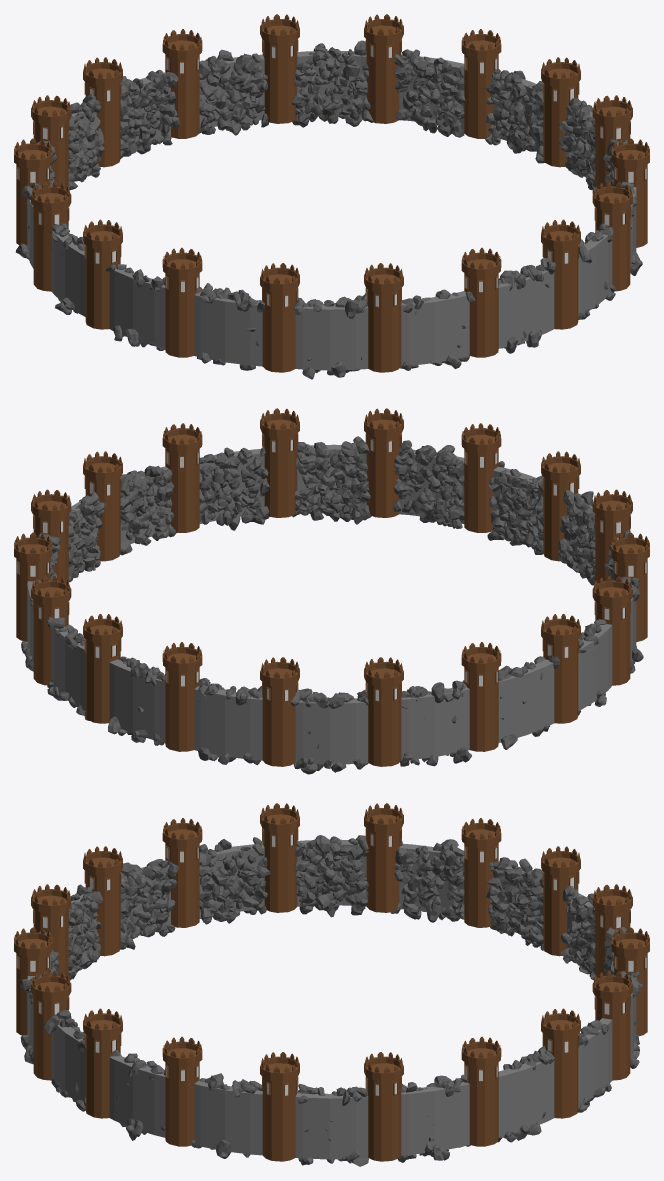
Rendered from Muralla.fbx.
3 views of the same model, one above another, from view 1: azimuth 30°, elevation 25°; view 2: azimuth 150°, elevation 25°; view 3: azimuth 270°, elevation 25° (orthographic).
Parts seen in each view (by area): view 1: Castillo, Castillo.001; view 2: Castillo, Castillo.001; view 3: Castillo, Castillo.001.
Boxes of the visible parts, <box> form: Castillo: <box>14,14,649,372</box>; Castillo.001: <box>27,50,636,370</box>; Castillo: <box>14,408,649,766</box>; Castillo.001: <box>27,444,636,764</box>; Castillo: <box>14,803,649,1161</box>; Castillo.001: <box>27,839,636,1159</box>.
Size of the model in its own units: 21164 by 3920 by 21281.
